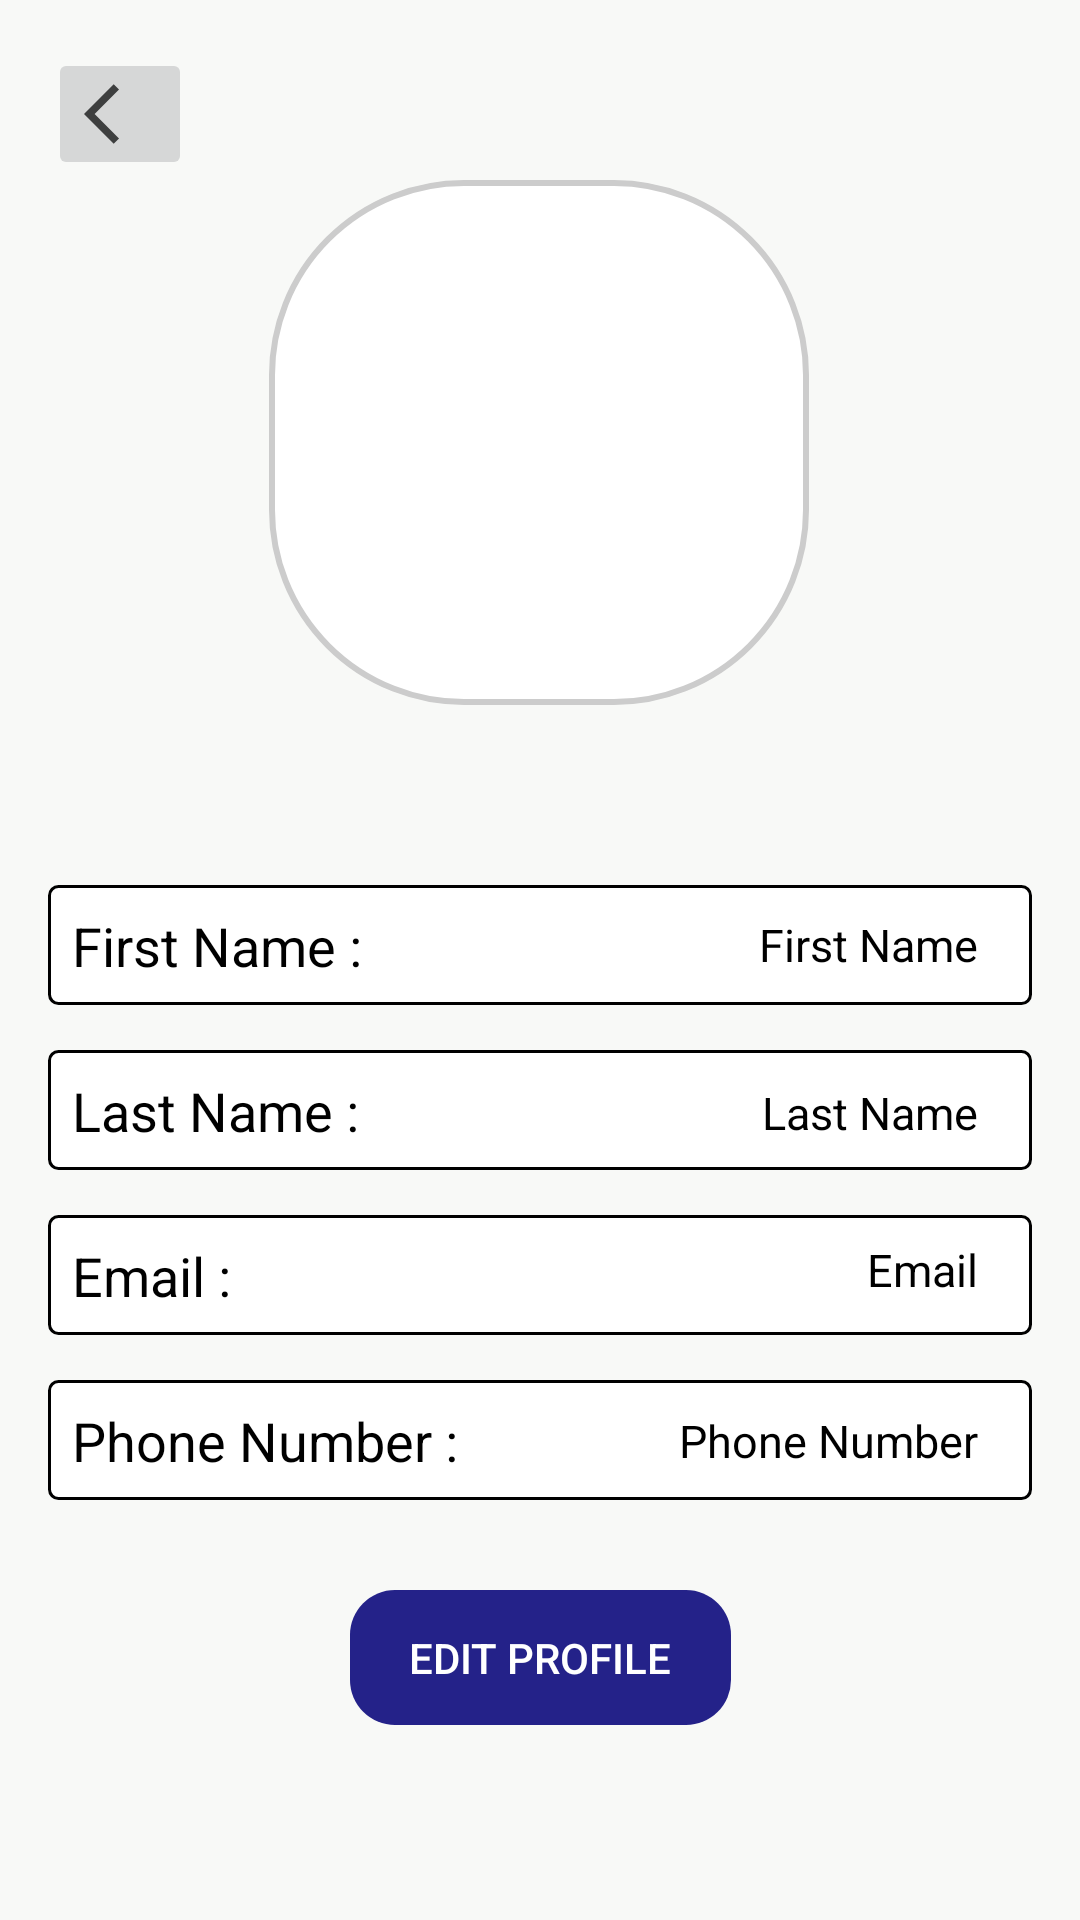

Named icons in this screenshot (1080 × 1920) and their centers, (x,y):
back: (120,114)
